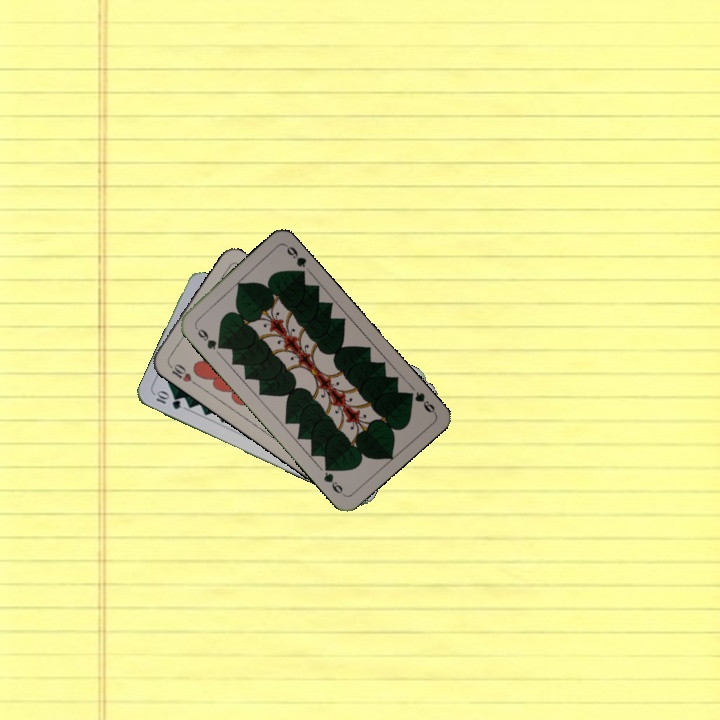G10: (152, 387, 183, 412)
G9: (191, 322, 225, 352), (402, 388, 438, 416)
H10: (164, 359, 199, 388)
